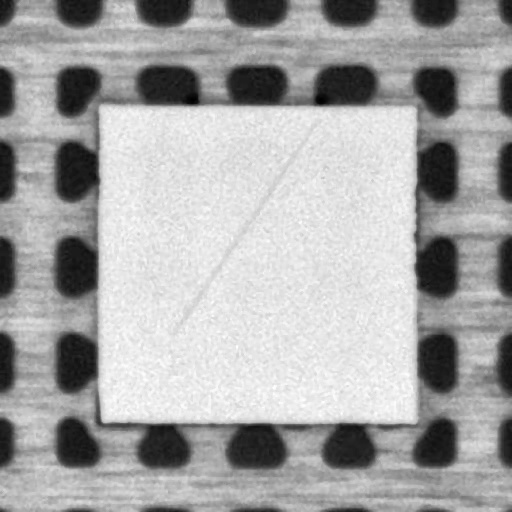DIE_CRACK: (172, 119, 316, 335)
